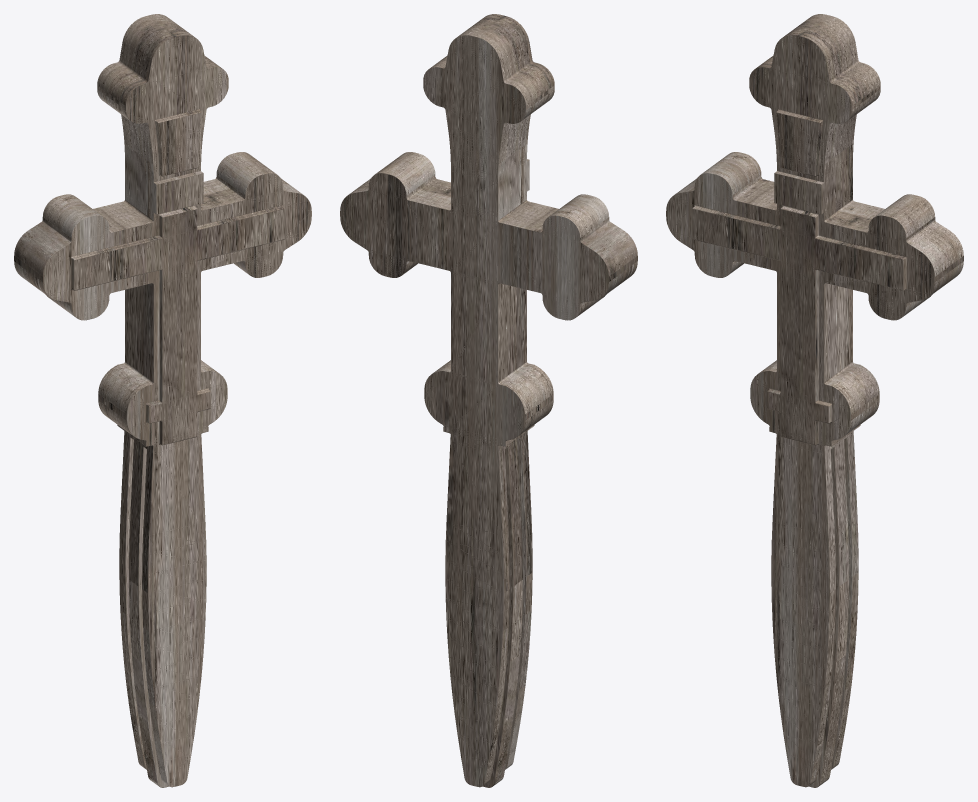
Rendered from Crucix v12 texturizado.FBX.
3 views of the same model, side by side, from view 1: azimuth 30°, elevation 25°; view 2: azimuth 150°, elevation 25°; view 3: azimuth 330°, elevation 25° (orthographic).
Visible parts, largest first — view 1: pCube1; view 2: pCube1; view 3: pCube1.
Part boxes in pixels (x1,y1,x2,y2): pCube1: [14, 14, 311, 787]; pCube1: [340, 14, 637, 787]; pCube1: [666, 14, 963, 787].
Bounding box in the file's own units: 3.04 × 8.19 × 0.6163.
1 material, 1 textured.
